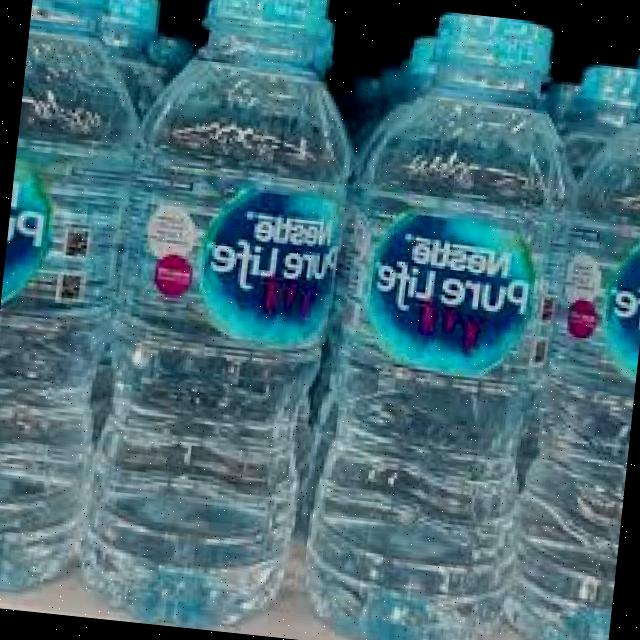bottle: (292, 2, 589, 640), (73, 0, 339, 601), (488, 32, 640, 640), (0, 0, 140, 593)
cap: (430, 14, 554, 84), (206, 0, 322, 46), (30, 0, 116, 24)
label: (342, 203, 556, 383), (130, 176, 346, 337), (538, 227, 640, 391), (2, 152, 120, 288)
